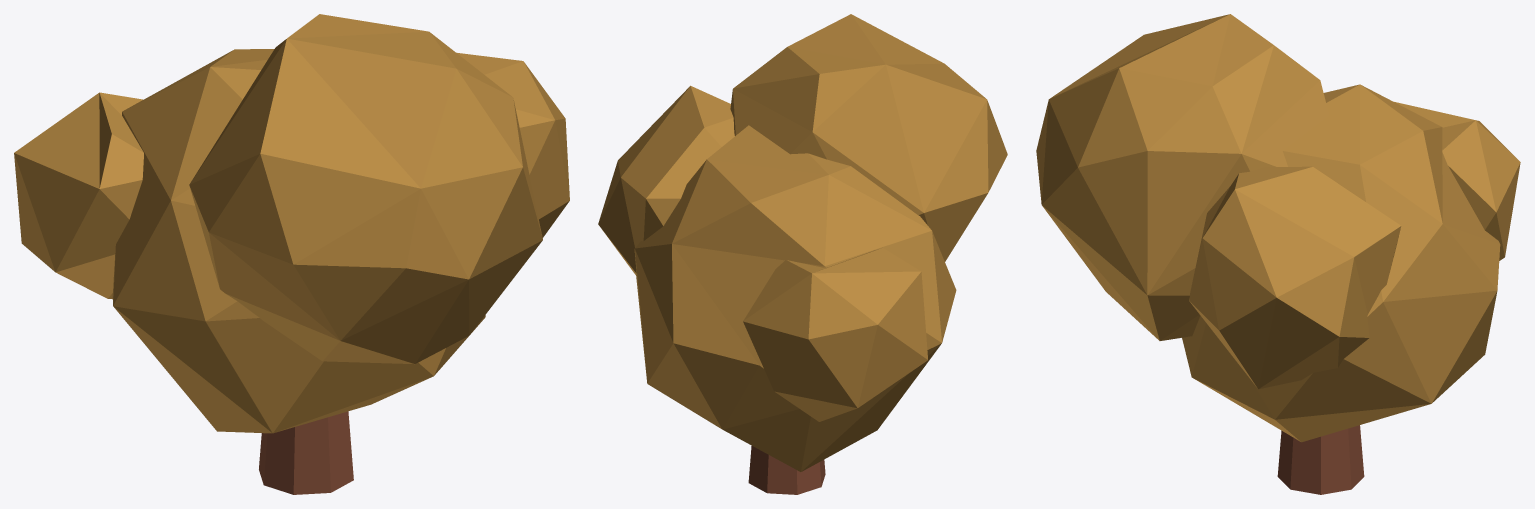
The model's file is bush_5_autumn_mat.fbx.
3 renders of one model, left to right at view 1: azimuth 30°, elevation 25°; view 2: azimuth 150°, elevation 25°; view 3: azimuth 270°, elevation 25°, orthographic. The views are drawn at different scales.
Visible parts, largest first — view 1: bush_5_autumn_mat; view 2: bush_5_autumn_mat; view 3: bush_5_autumn_mat.
Boxes of the visible parts, box(x1,y1,x2,y2) form: bush_5_autumn_mat: box(14, 14, 569, 494); bush_5_autumn_mat: box(598, 14, 1007, 494); bush_5_autumn_mat: box(1036, 14, 1520, 494).
Bounding box in the file's own units: 125 × 132 × 134.
